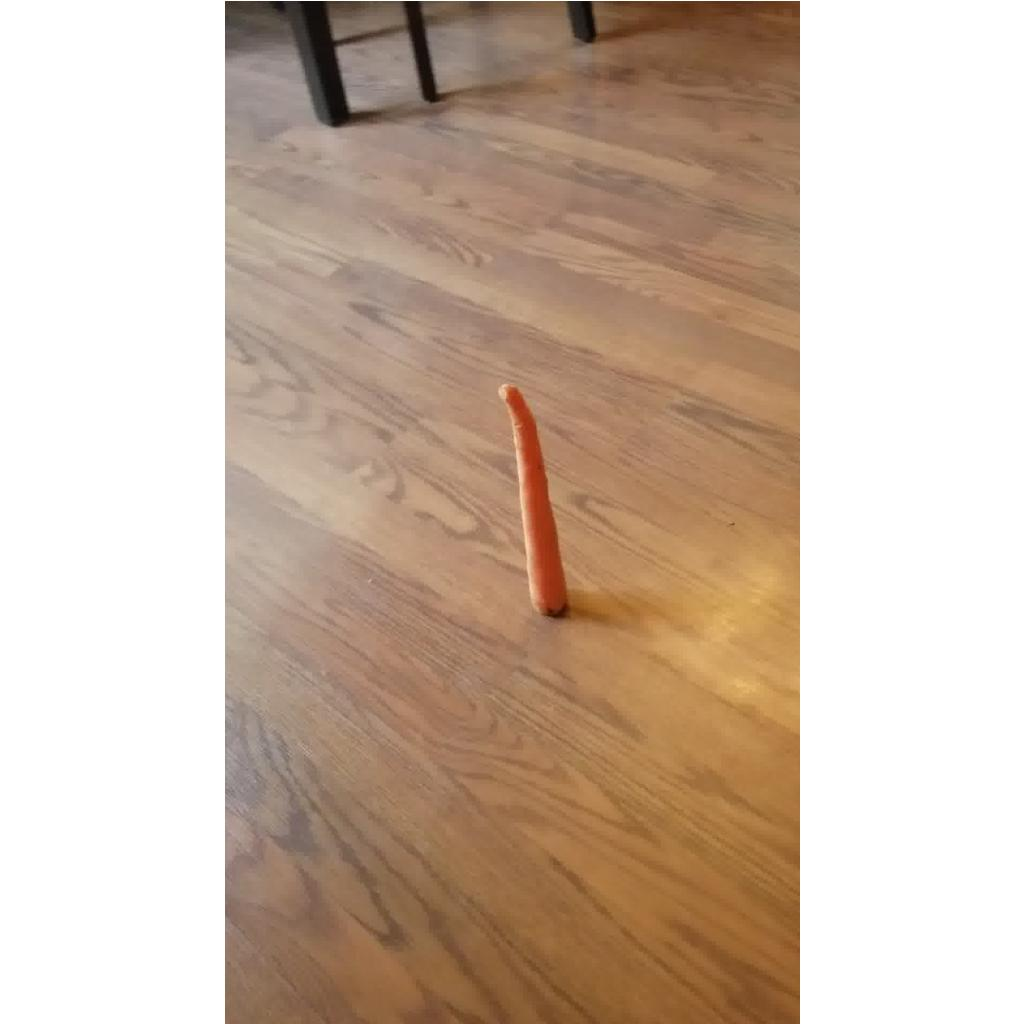carrot: (498, 384, 566, 614)
